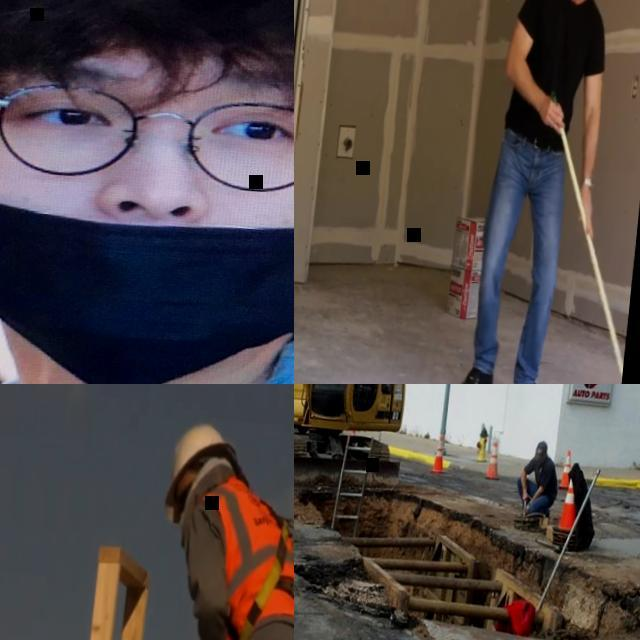Weapon: (38, 402, 302, 638), (511, 429, 574, 549)
objects: (146, 388, 251, 533)
